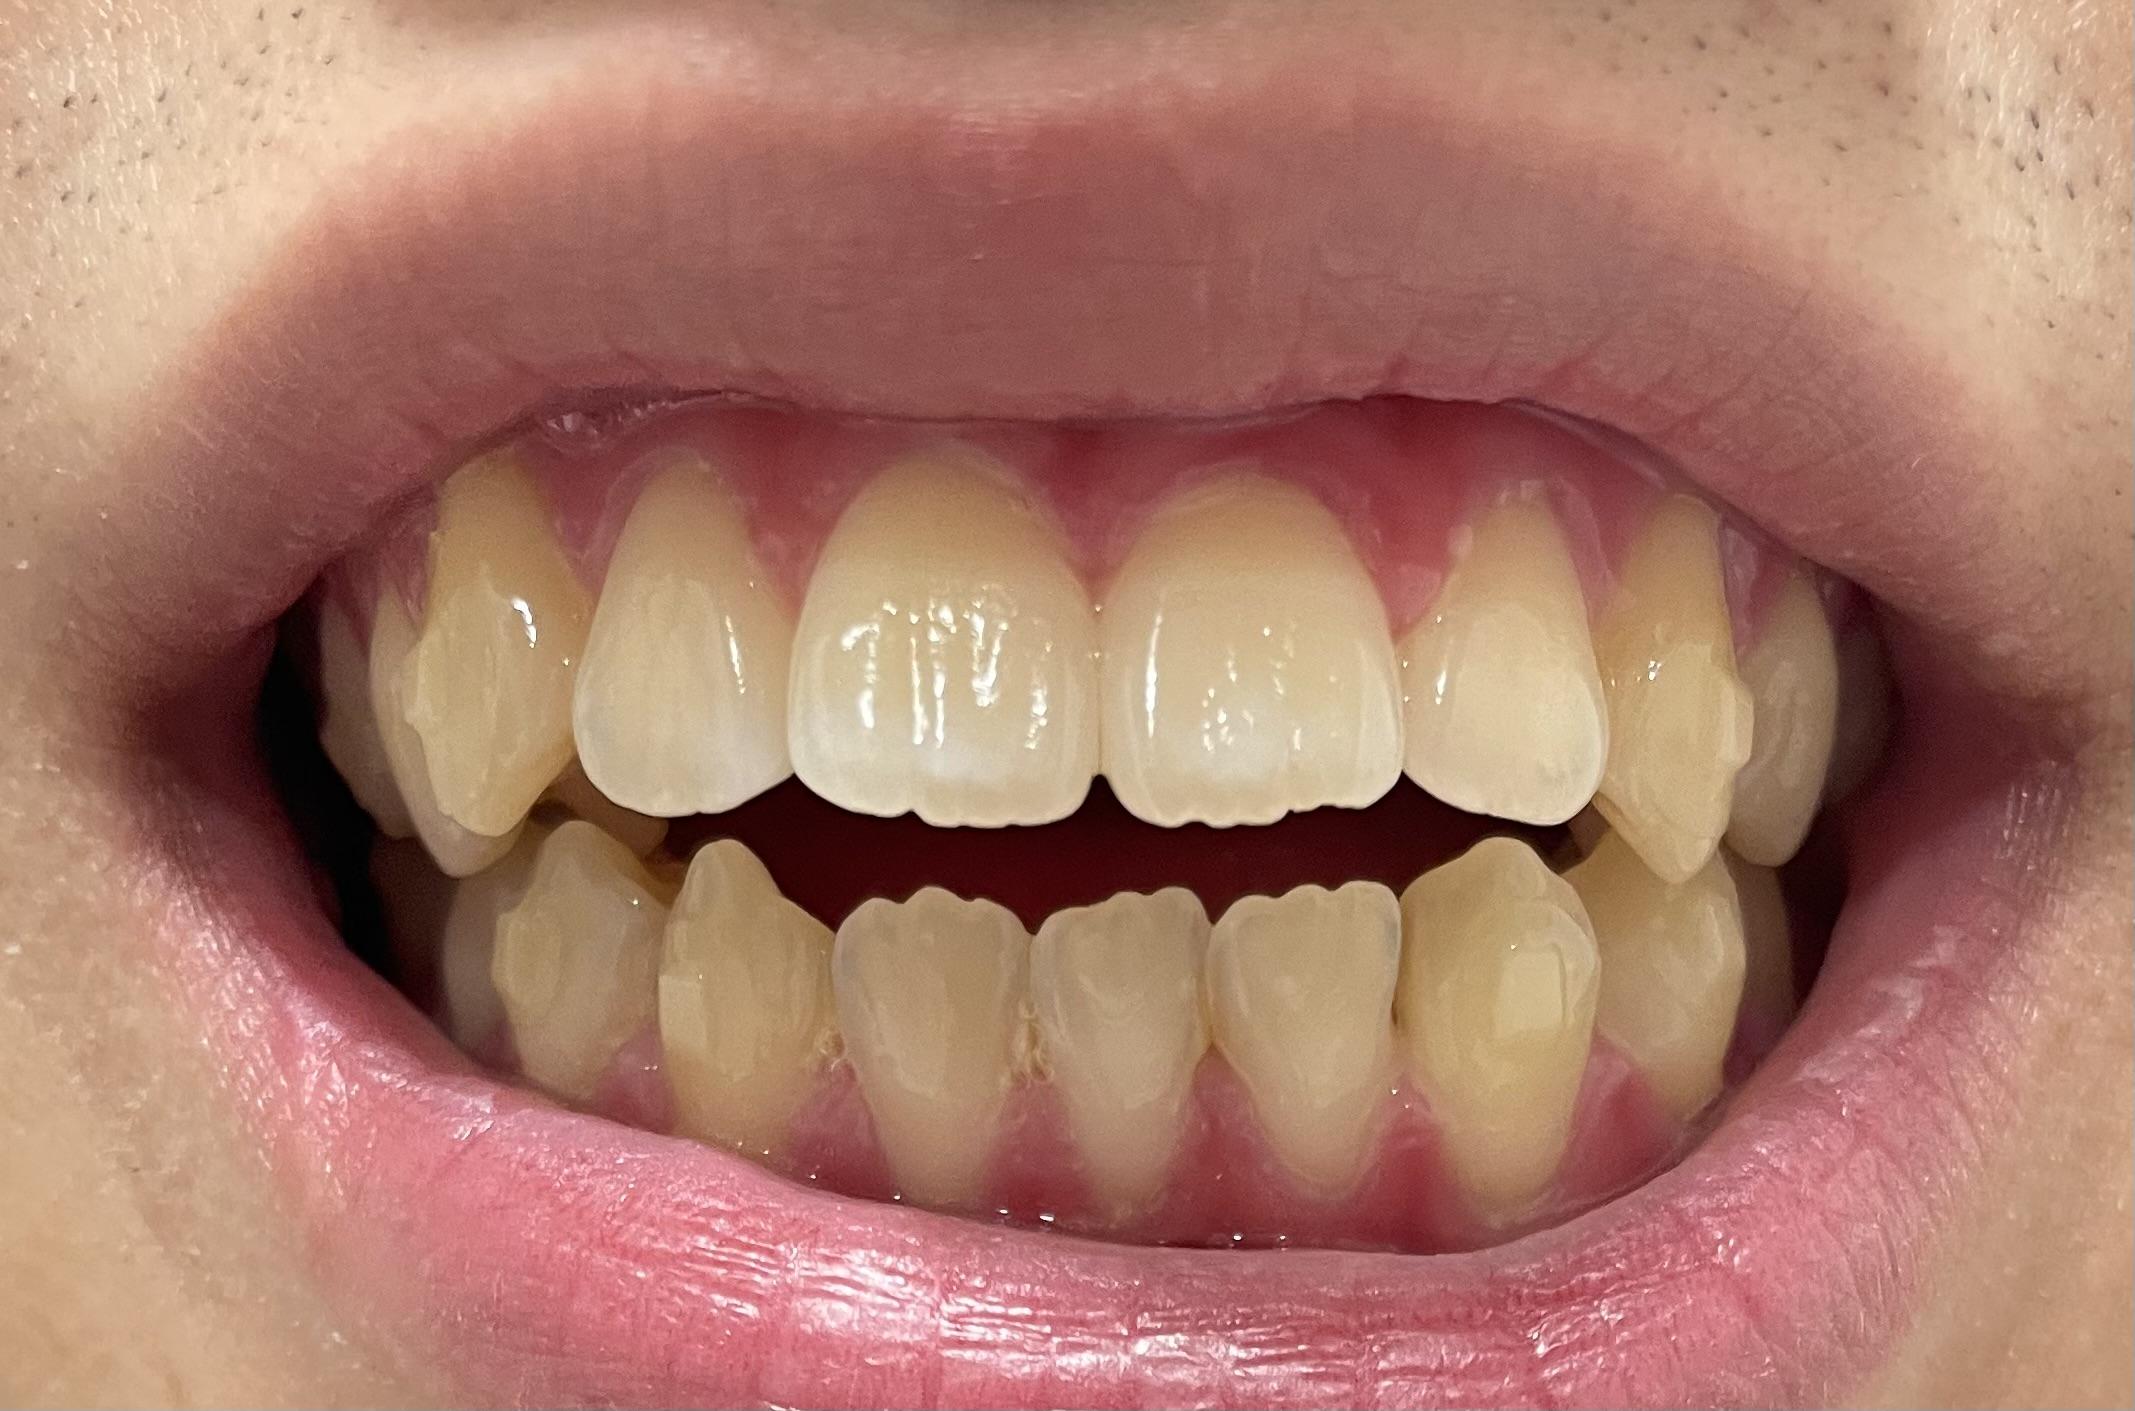teeth: (789, 461, 1105, 827), (1101, 461, 1401, 830), (573, 457, 784, 816), (1414, 474, 1608, 827), (1414, 836, 1593, 1205), (833, 891, 1033, 1198), (1041, 887, 1212, 1217), (425, 454, 570, 843), (1220, 874, 1393, 1194), (661, 846, 828, 1146), (1608, 488, 1738, 852), (501, 820, 655, 1077), (1584, 849, 1726, 1104), (367, 573, 483, 866), (1740, 572, 1834, 869), (326, 603, 405, 831), (441, 846, 496, 1052)
